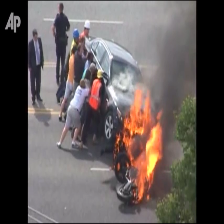fire_h: (122, 84, 164, 201)
fire_l: (113, 133, 120, 156), (116, 162, 120, 170), (125, 161, 129, 167)
